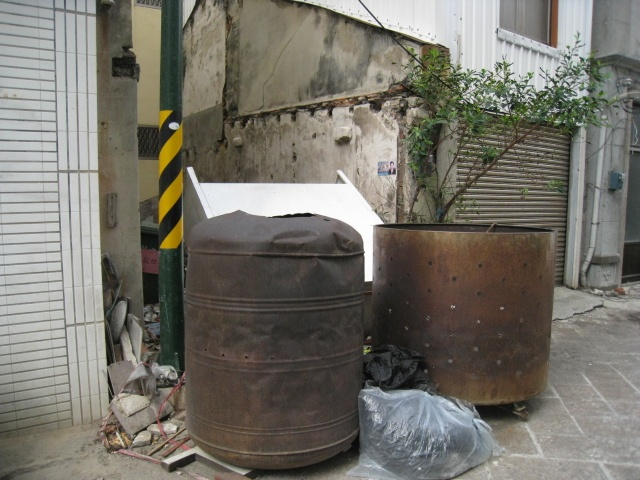bucket: (367, 218, 556, 408)
plastic_bag: (348, 383, 506, 480)
water_tower: (178, 210, 369, 469)
